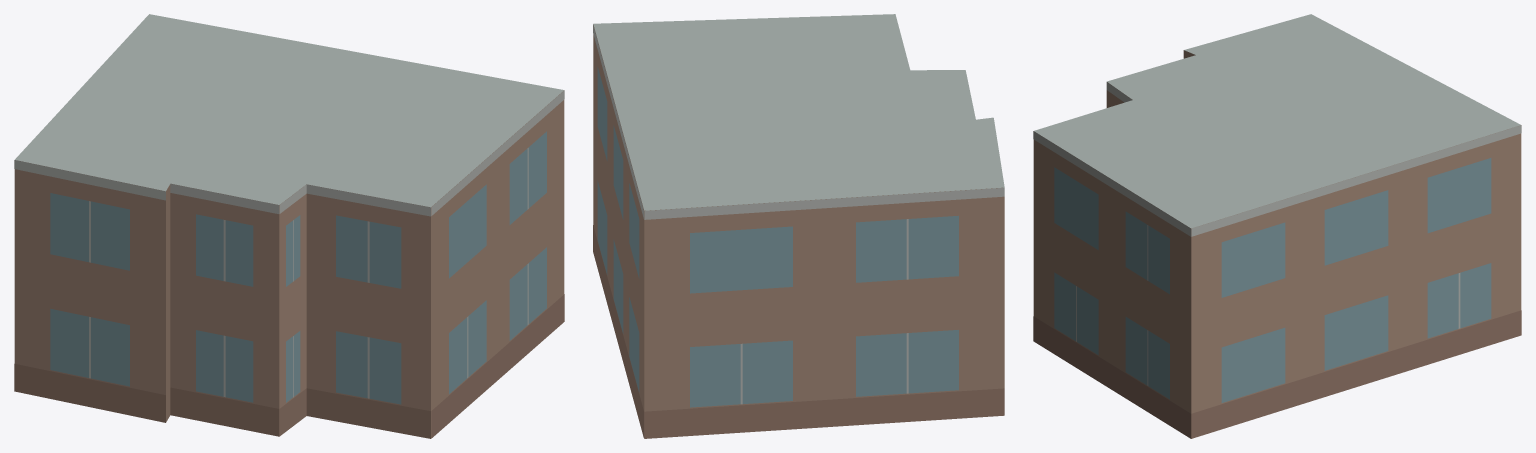
File: survey-upis-32889530.glb
3 views of the same model, side by side, from view 1: azimuth 30°, elevation 25°; view 2: azimuth 150°, elevation 25°; view 3: azimuth 270°, elevation 25° (orthographic). The views are drawn at different scales.
Parts seen in each view (by area): view 1: survey-upis-32889530.tmp; view 2: survey-upis-32889530.tmp; view 3: survey-upis-32889530.tmp.
Boxes of the visible parts, x1=… form: survey-upis-32889530.tmp: x1=14, y1=14, x2=564, y2=438; survey-upis-32889530.tmp: x1=593, y1=14, x2=1004, y2=438; survey-upis-32889530.tmp: x1=1033, y1=14, x2=1521, y2=438.
Size of the model in its own units: 13.35 by 6.1 by 12.83.
